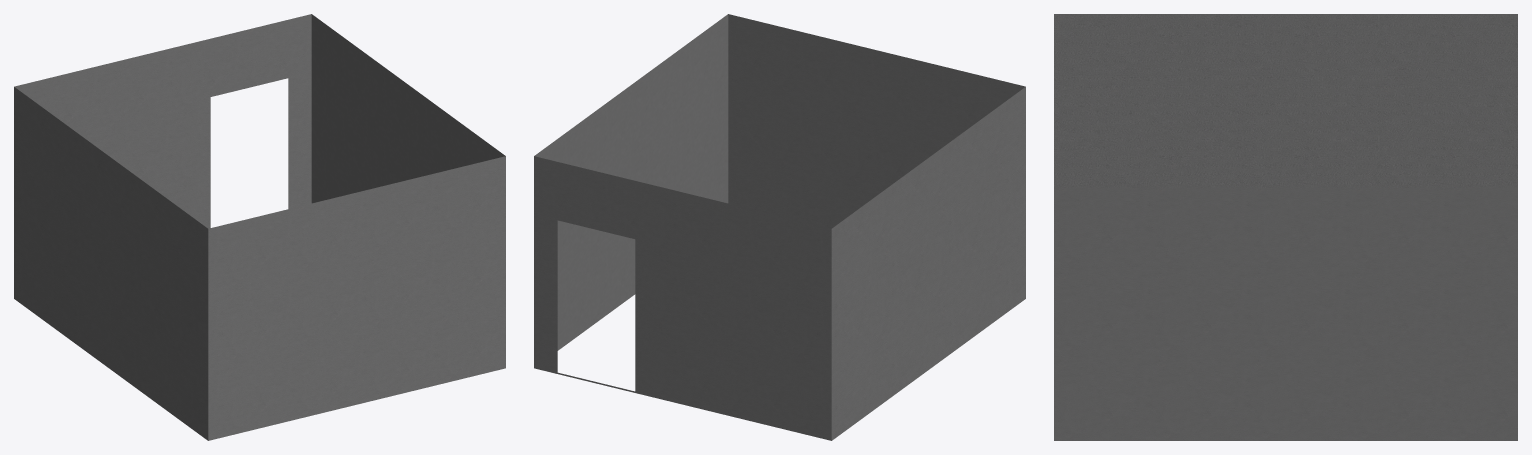
Rendered from Office.fbx.
3 renders of one model, left to right at view 1: azimuth 30°, elevation 25°; view 2: azimuth 150°, elevation 25°; view 3: azimuth 270°, elevation 25°, orthographic. The views are drawn at different scales.
Parts seen in each view (by area): view 1: Cube; view 2: Cube; view 3: Cube.
Part boxes in pixels (x1,y1,x2,y2): Cube: (14,14,505,440); Cube: (534,14,1025,440); Cube: (1054,14,1517,440).
Size of the model in its own units: 6.96 by 7.86 by 4.74.
1 material, 1 textured.
